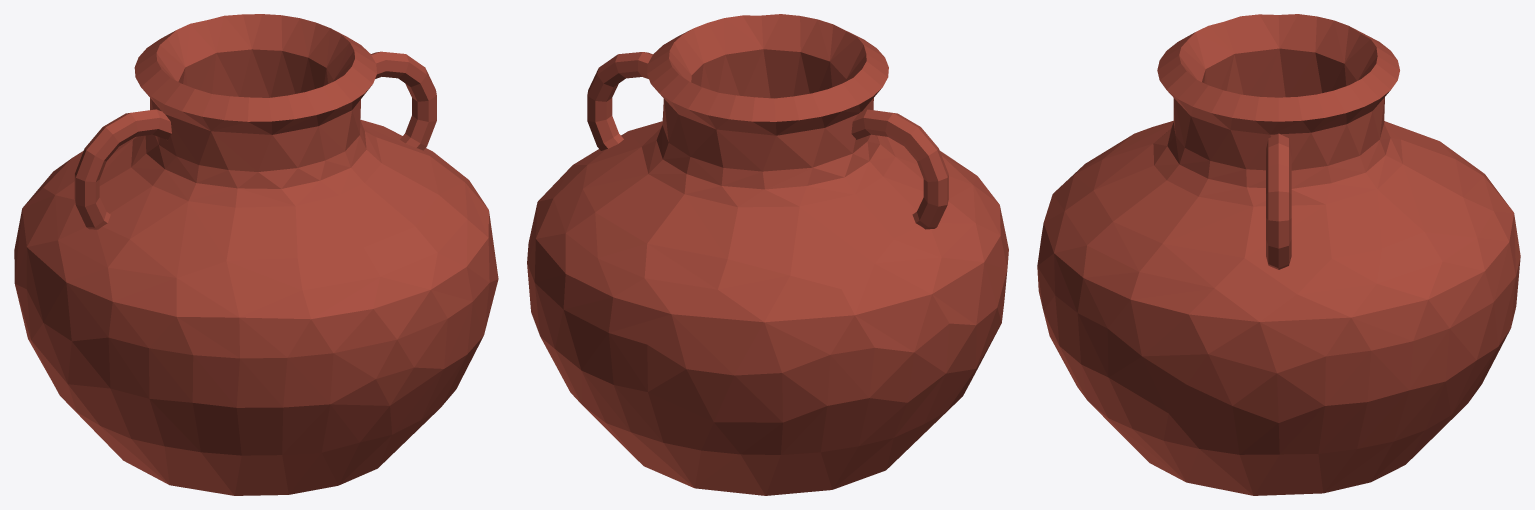
File: Pottery 7_2.fbx
3 views of the same model, side by side, from view 1: azimuth 30°, elevation 25°; view 2: azimuth 150°, elevation 25°; view 3: azimuth 270°, elevation 25° (orthographic).
Parts seen in each view (by area): view 1: Pottery 7_2; view 2: Pottery 7_2; view 3: Pottery 7_2.
Boxes of the visible parts, <box> form: Pottery 7_2: <box>14,14,498,495</box>; Pottery 7_2: <box>527,14,1008,495</box>; Pottery 7_2: <box>1037,14,1520,495</box>.
Bounding box in the file's own units: 53.28 × 45.94 × 52.98.
